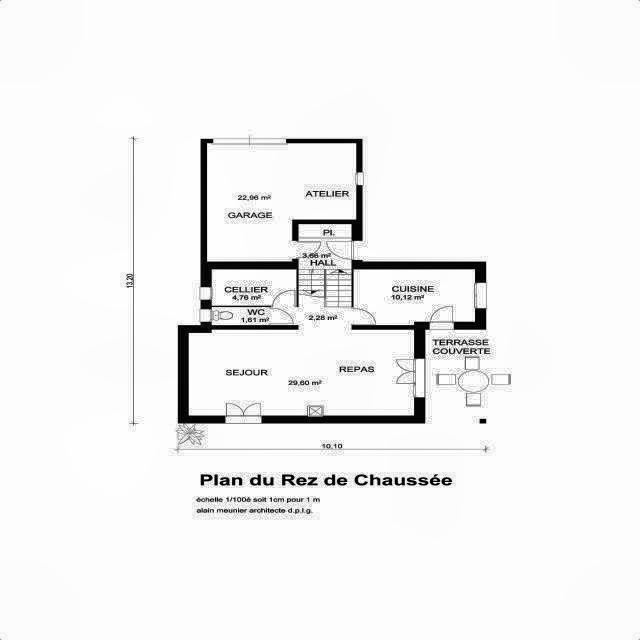room: (189, 224, 414, 416), (207, 143, 356, 262), (353, 269, 475, 322), (212, 269, 297, 306), (212, 307, 269, 325)
